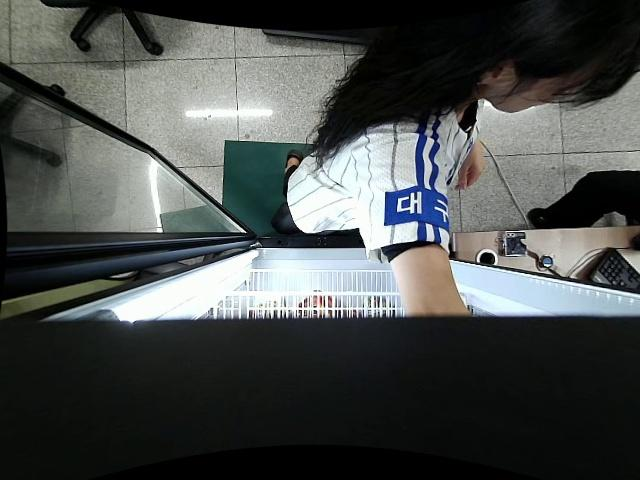00_hand: (451, 139, 485, 191)
